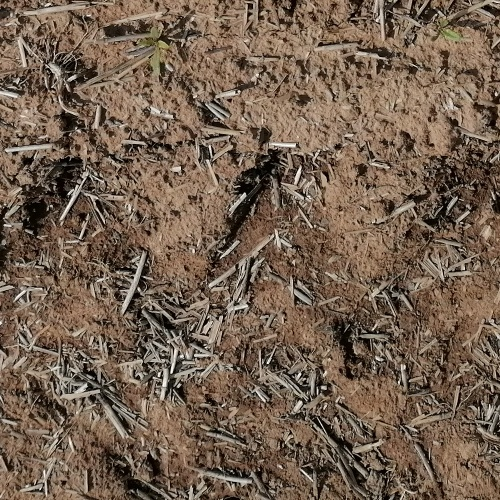beet: (149, 19, 168, 81), (435, 18, 464, 42)
